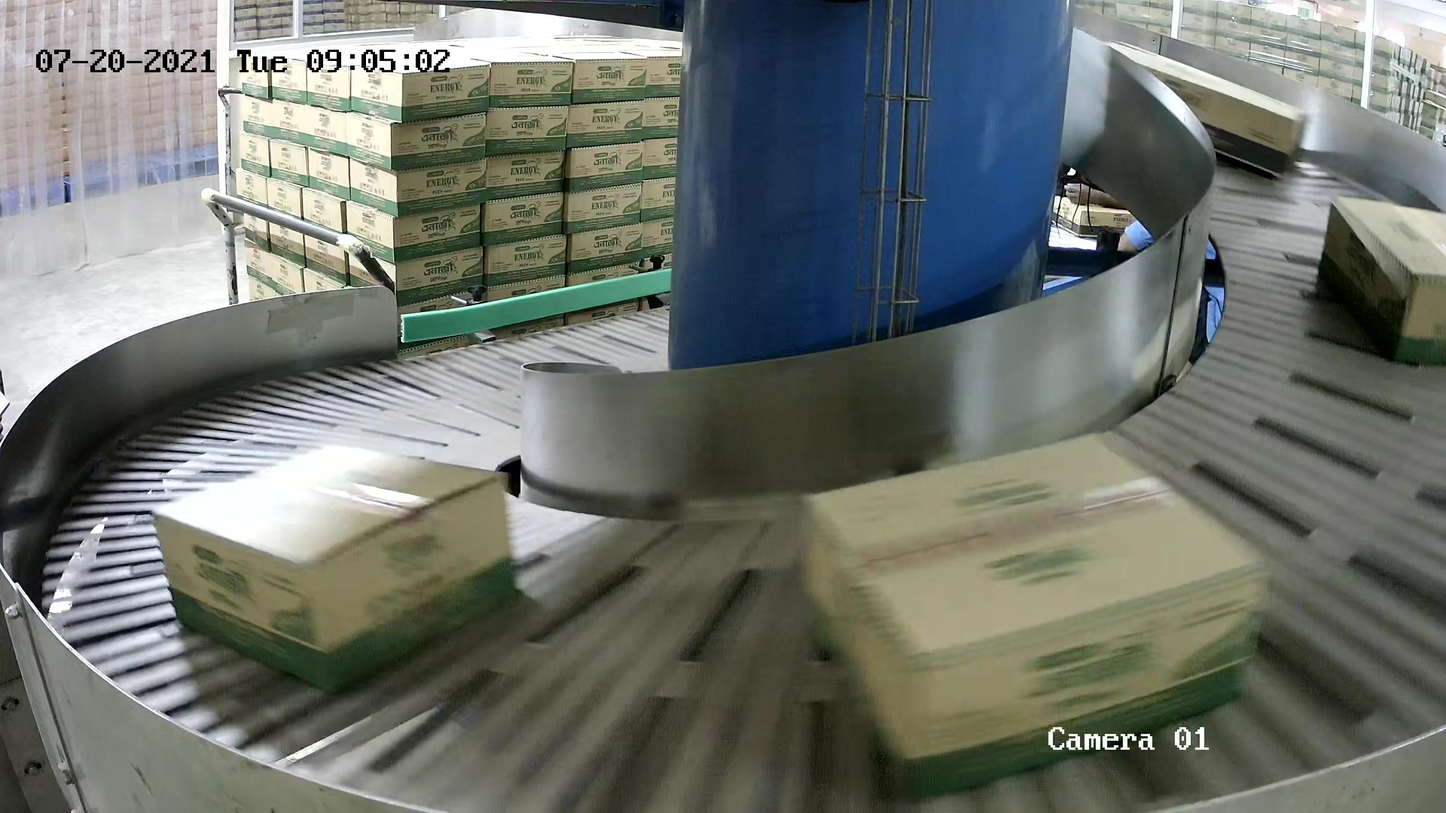Box: (796, 426, 1266, 798), (152, 440, 521, 696), (1095, 35, 1315, 181), (1312, 195, 1446, 370)
